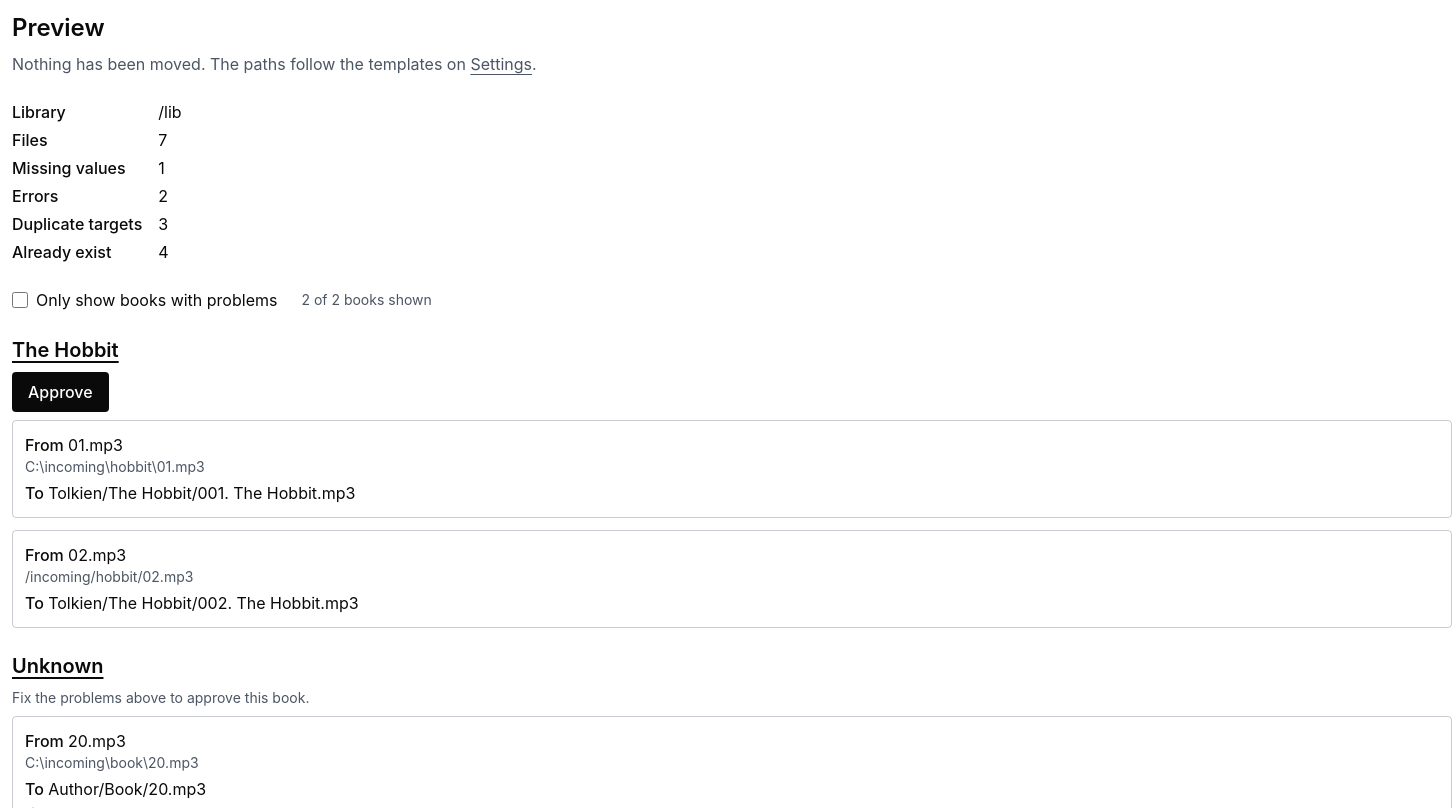
Test: PreviewPage › hides books without problems when the filter is ticked
Expected: the heading "The Hobbit" is shown, top-left (12, 338), bottom-right (119, 362)
Expected: the message reads "2 of 2 books shown", top-left (301, 291), bottom-right (432, 308)
Click the checkbox labelled "Only show books with problems".
click(20, 300)  # box top-left (12, 292), bottom-right (28, 308)
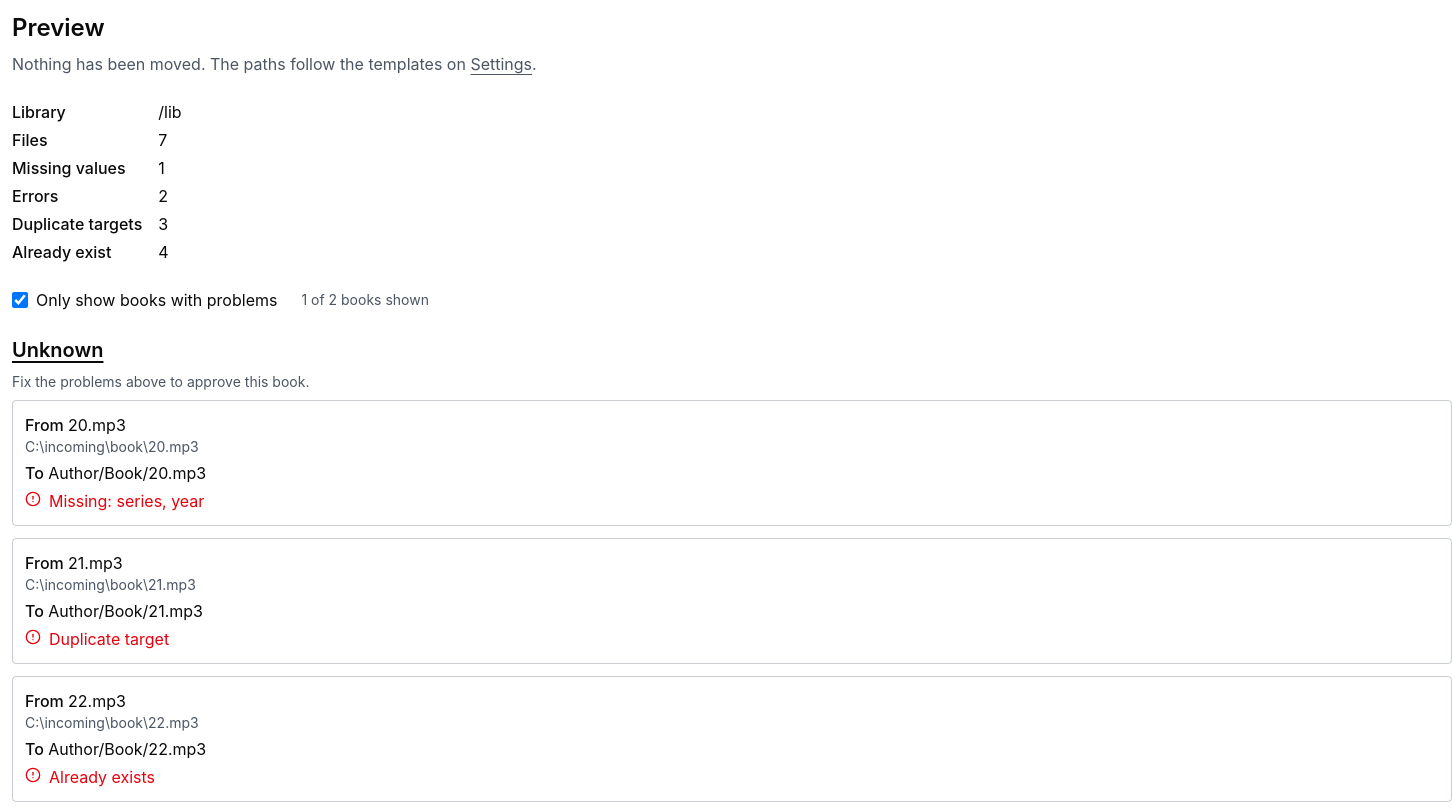
Expected: the heading "Unknown" is shown, top-left (12, 338), bottom-right (104, 362)
Result: the link "The Hobbit" is gone
Result: the message reads "1 of 2 books shown" at top-left (301, 291), bottom-right (429, 308)
